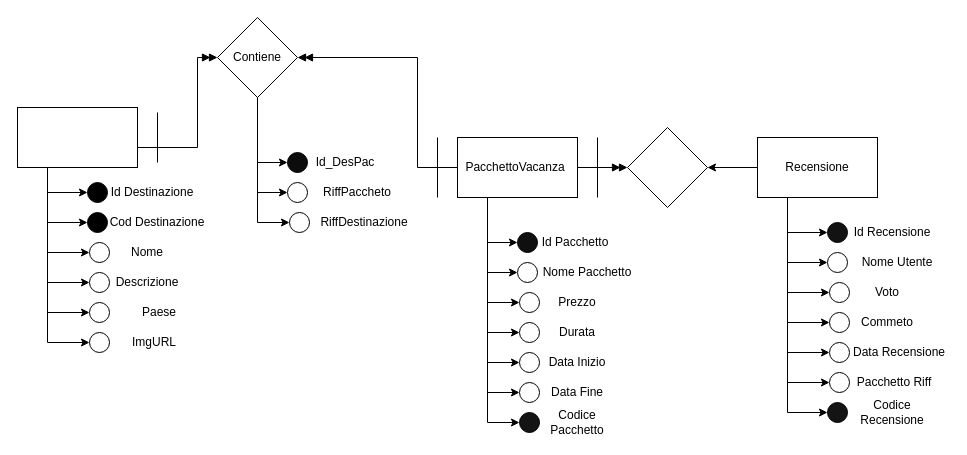
Image size: 967x455. Some labels were removed from this diagram. Here are the shapes that lost their labels. From the top down, the centre of each, then its label:
pixel 77 137: Destinazione
pixel 667 167: Ha
